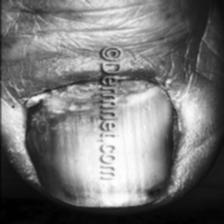Toxin: (4, 74, 98, 152), (43, 178, 174, 214), (120, 72, 164, 106)
